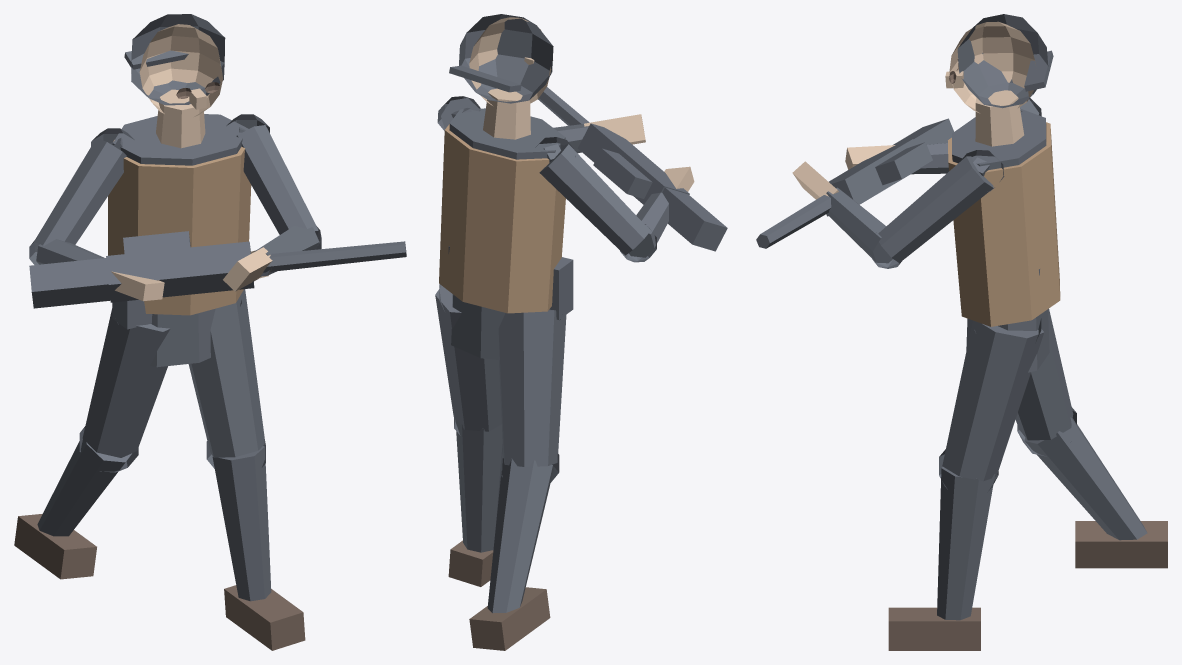
File: low-poly-character-figures-soldier-patrolling-35e3e344__36367.glb
The picture shows the model from 3 angles, left to right: view 1: azimuth 30°, elevation 25°; view 2: azimuth 150°, elevation 25°; view 3: azimuth 270°, elevation 25°; orthographic projection. The views are drawn at different scales.
Visible parts, largest first — view 1: soldier-patrolling; view 2: soldier-patrolling; view 3: soldier-patrolling.
Boxes of the visible parts, <box> form: soldier-patrolling: <box>14,14,406,650</box>; soldier-patrolling: <box>435,14,727,650</box>; soldier-patrolling: <box>756,14,1167,650</box>.
Size of the model in its own units: 0.9101 by 1.75 by 1.09.
